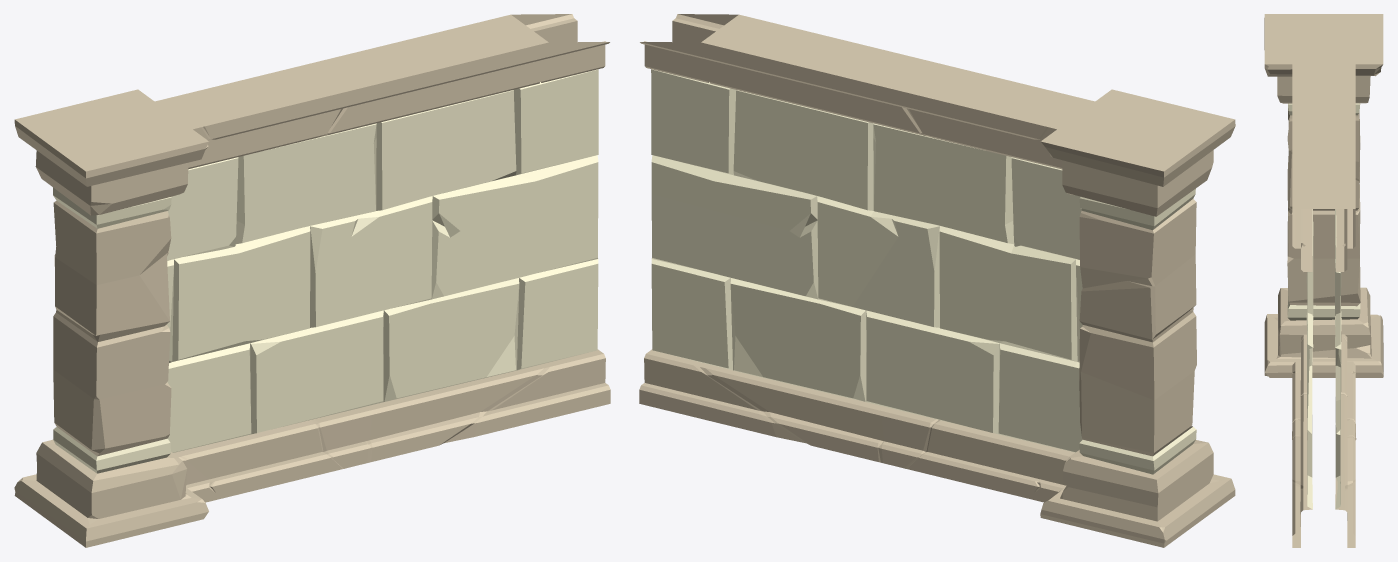
Rendered from SM_SM_Peller_01.015.fbx.
The picture shows the model from 3 angles, left to right: view 1: azimuth 30°, elevation 25°; view 2: azimuth 150°, elevation 25°; view 3: azimuth 270°, elevation 25°; orthographic projection. The views are drawn at different scales.
Visible parts, largest first — view 1: SM_Peller_01.015; view 2: SM_Peller_01.015; view 3: SM_Peller_01.015.
Boxes of the visible parts, box(x1,y1,x2,y2) form: SM_Peller_01.015: box(14, 14, 610, 547); SM_Peller_01.015: box(639, 14, 1235, 547); SM_Peller_01.015: box(1264, 14, 1383, 547).
Size of the model in its own units: 452 by 300 by 103.
